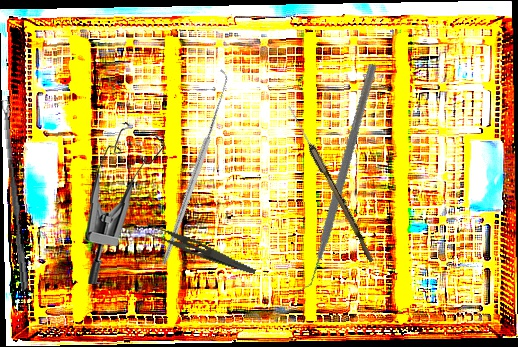Chopper: (235, 62, 432, 296)
Dressing Forceps: (140, 219, 260, 276)
Hook Surgical: (92, 68, 294, 265)
Speculum: (82, 121, 169, 285)
Surgical Spoon: (284, 104, 378, 263), (1, 99, 30, 293)
